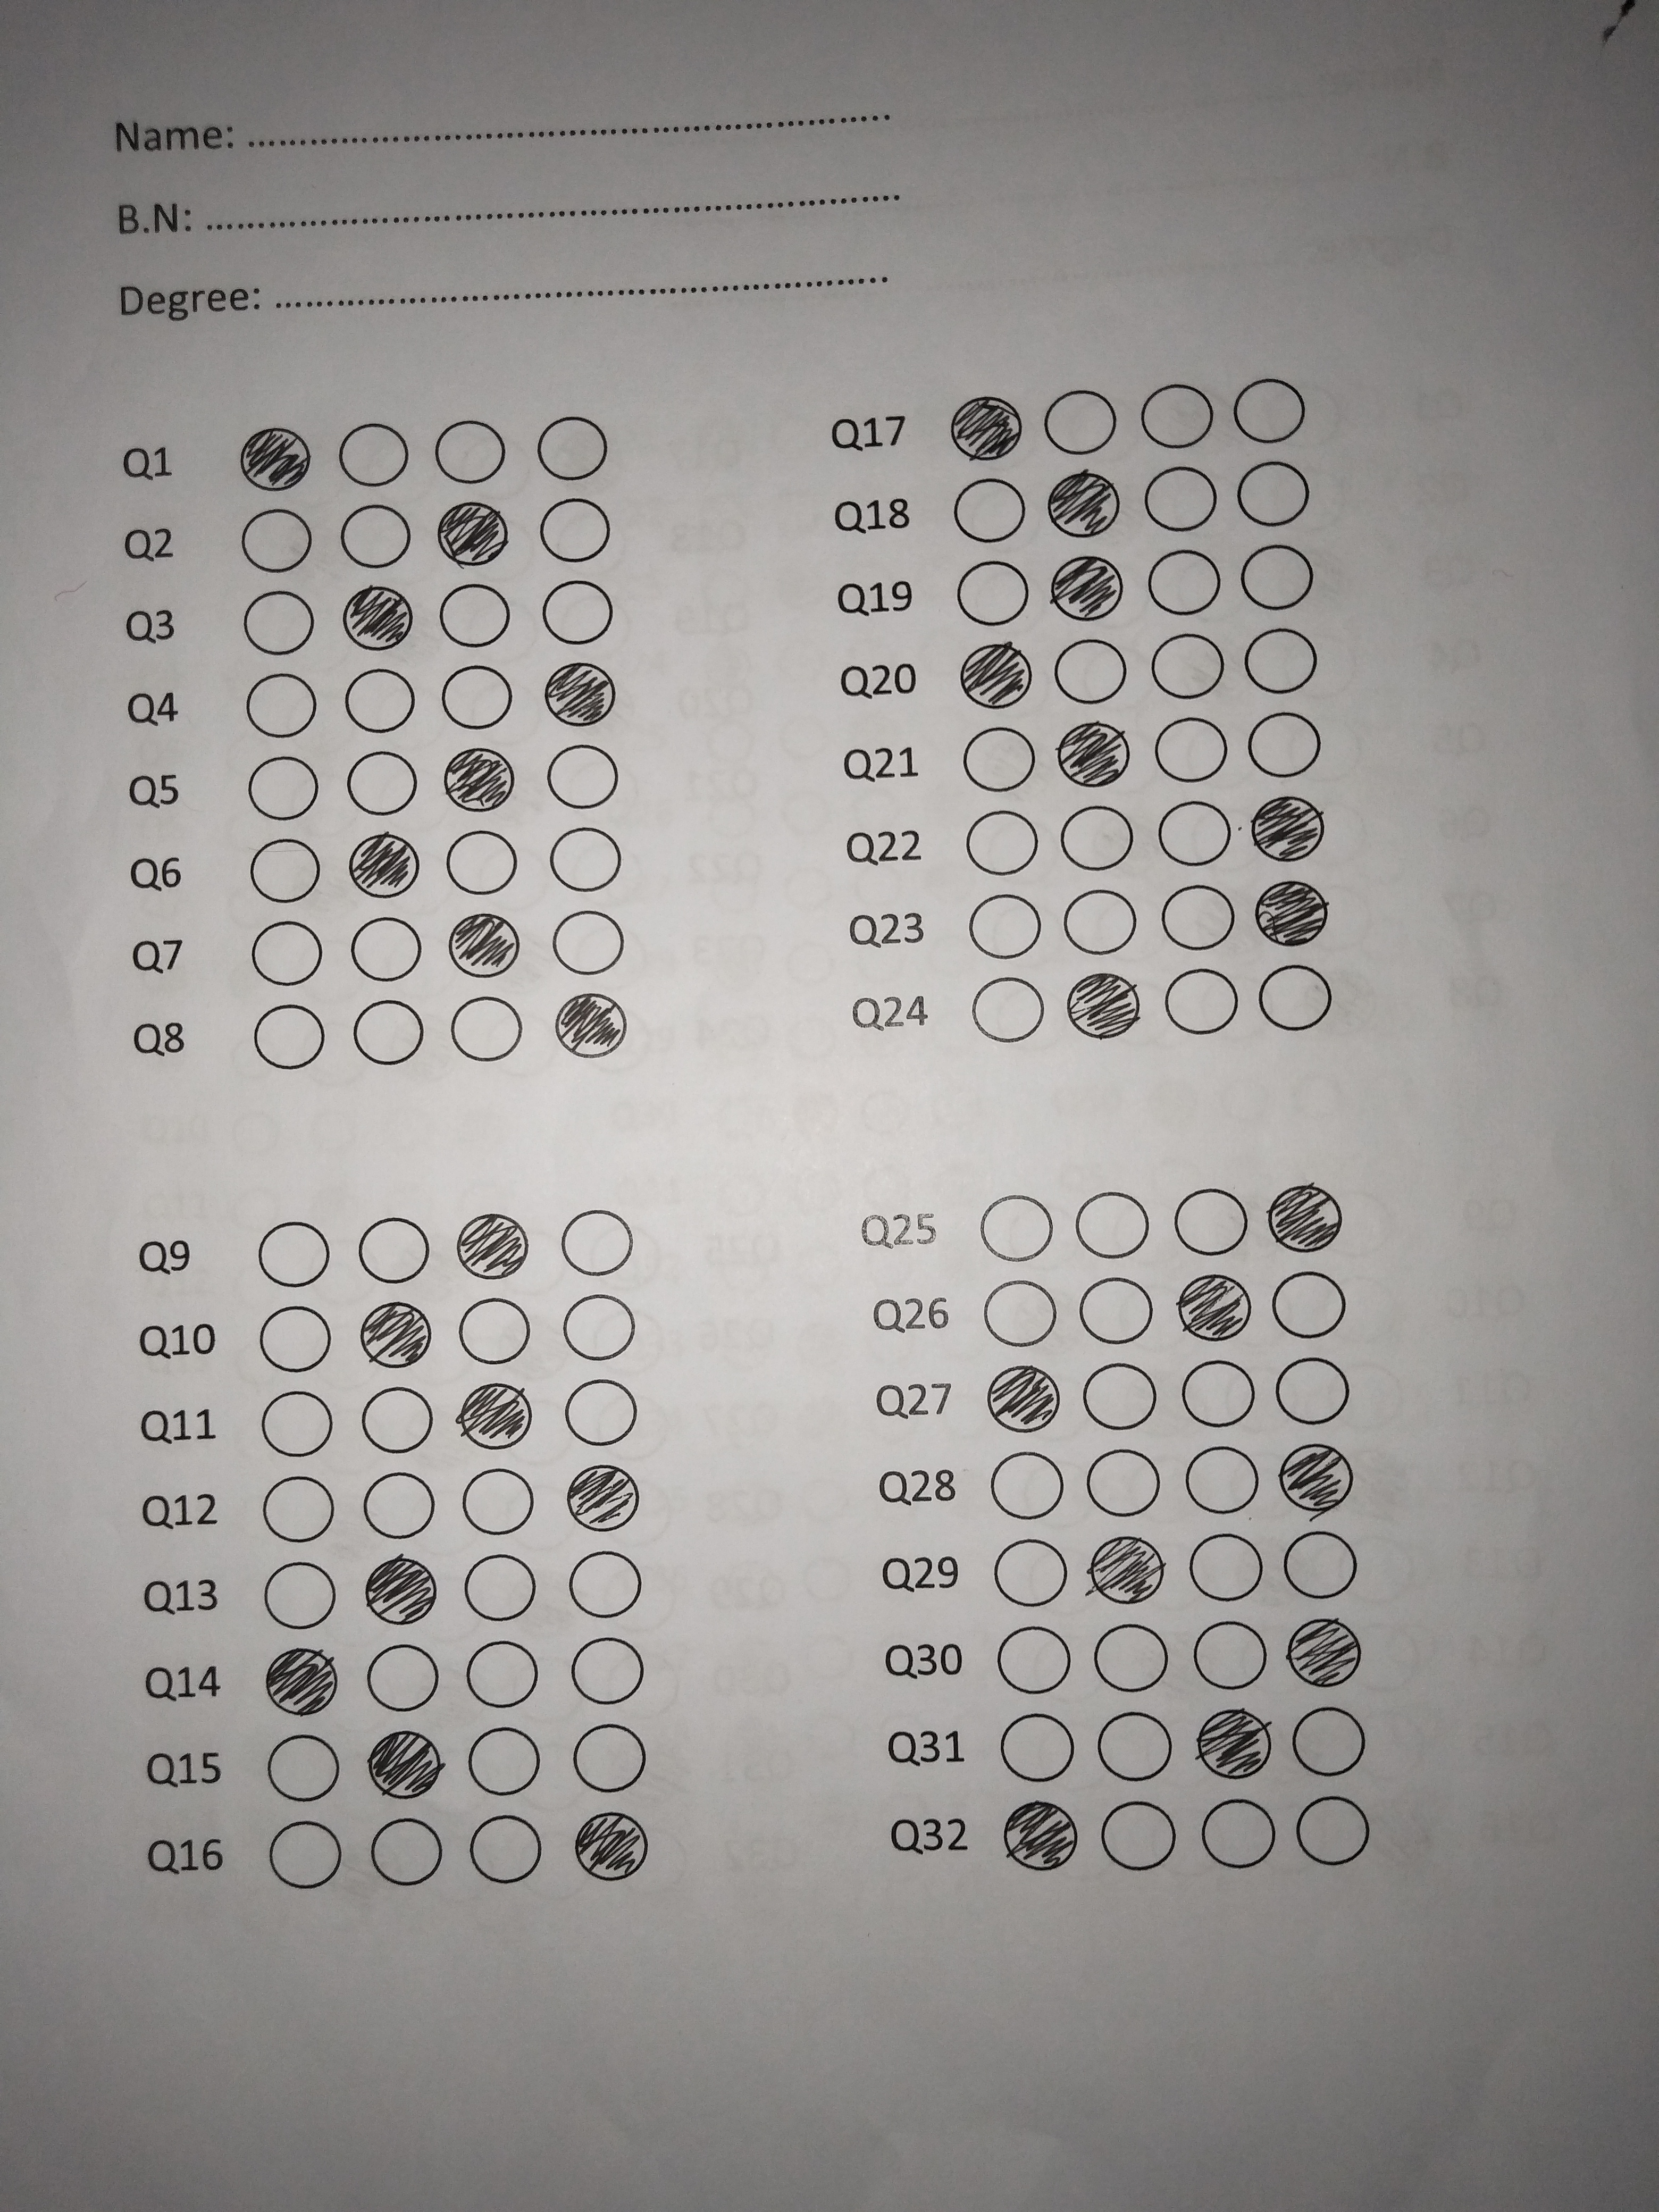not-c: (462, 1637, 563, 1717), (331, 415, 418, 505), (1141, 624, 1234, 709), (242, 913, 335, 996), (1093, 1792, 1185, 1876), (1073, 1355, 1166, 1437), (258, 1813, 354, 1892), (436, 402, 512, 500), (1068, 1184, 1155, 1270), (465, 1810, 554, 1893), (955, 718, 1042, 801), (1286, 1698, 1373, 1782), (247, 1214, 336, 1296), (985, 1446, 1070, 1529), (1094, 1700, 1178, 1785), (355, 1635, 443, 1717), (462, 1719, 551, 1799), (1152, 794, 1241, 874), (1195, 1792, 1281, 1874), (1084, 1444, 1171, 1524), (1251, 960, 1340, 1038), (1267, 1268, 1358, 1345), (958, 974, 1054, 1045), (1173, 1183, 1253, 1268), (1269, 1352, 1354, 1432), (946, 469, 1033, 547), (1230, 458, 1319, 535), (242, 1001, 340, 1071), (992, 1703, 1082, 1778), (432, 577, 518, 655), (533, 577, 620, 653), (345, 913, 432, 989), (457, 1548, 544, 1625), (258, 1730, 345, 1806), (253, 1301, 342, 1376), (965, 890, 1054, 965), (1183, 1527, 1272, 1602), (354, 1205, 436, 1285), (565, 1545, 647, 1625), (542, 911, 636, 981), (561, 1376, 645, 1454), (364, 1813, 448, 1892), (1243, 704, 1326, 782), (242, 669, 328, 745), (1155, 881, 1241, 958), (537, 409, 612, 496), (237, 587, 326, 660), (540, 824, 631, 895), (1060, 798, 1138, 880), (976, 1190, 1058, 1268), (1178, 1353, 1260, 1432), (951, 554, 1035, 631), (1176, 1440, 1260, 1517), (450, 989, 525, 1075), (552, 1205, 638, 1280), (1293, 1796, 1378, 1871), (328, 505, 422, 573), (978, 1277, 1065, 1350), (256, 1385, 338, 1461), (443, 822, 518, 906), (352, 995, 427, 1078), (1236, 540, 1319, 615), (1136, 380, 1222, 453), (1147, 714, 1232, 787), (1241, 624, 1328, 695), (962, 806, 1042, 883), (237, 507, 319, 582), (439, 660, 514, 742), (359, 1465, 441, 1540), (1281, 1527, 1363, 1602), (1049, 631, 1133, 704), (254, 1475, 340, 1547), (240, 754, 328, 824), (343, 665, 420, 744), (572, 1717, 650, 1794), (988, 1536, 1068, 1611), (1232, 371, 1305, 453), (559, 1292, 645, 1362), (1136, 463, 1223, 531), (345, 749, 420, 827), (568, 1634, 647, 1709), (544, 740, 624, 813), (1187, 1618, 1267, 1691), (260, 1561, 342, 1632), (1161, 967, 1243, 1038), (242, 838, 326, 907), (532, 496, 613, 566), (1138, 547, 1222, 615), (457, 1289, 532, 1364), (1044, 383, 1117, 460), (359, 1383, 437, 1454), (462, 1465, 540, 1536), (1077, 1275, 1157, 1345), (993, 1623, 1073, 1693), (1061, 890, 1140, 956), (1096, 1623, 1166, 1689)
taken-c: (364, 1726, 443, 1803), (1265, 1183, 1347, 1256), (572, 1808, 652, 1881), (1194, 1707, 1274, 1780), (265, 1644, 342, 1719), (1002, 1797, 1077, 1874), (1279, 1439, 1356, 1514), (1284, 1615, 1363, 1688), (1175, 1270, 1253, 1343), (1253, 876, 1331, 949), (1046, 552, 1126, 624), (566, 1458, 641, 1533), (364, 1552, 439, 1627), (981, 1362, 1061, 1432), (946, 394, 1026, 463), (1054, 719, 1134, 789), (1091, 1533, 1166, 1606), (455, 1209, 532, 1280), (1065, 970, 1143, 1040), (432, 500, 512, 568), (439, 747, 519, 815), (1249, 794, 1330, 862), (347, 831, 422, 902), (554, 989, 629, 1061), (357, 1299, 434, 1369), (1046, 469, 1122, 538), (958, 641, 1035, 711), (457, 1383, 535, 1451), (240, 425, 315, 495), (340, 583, 416, 651), (544, 658, 620, 726), (446, 911, 519, 981)
